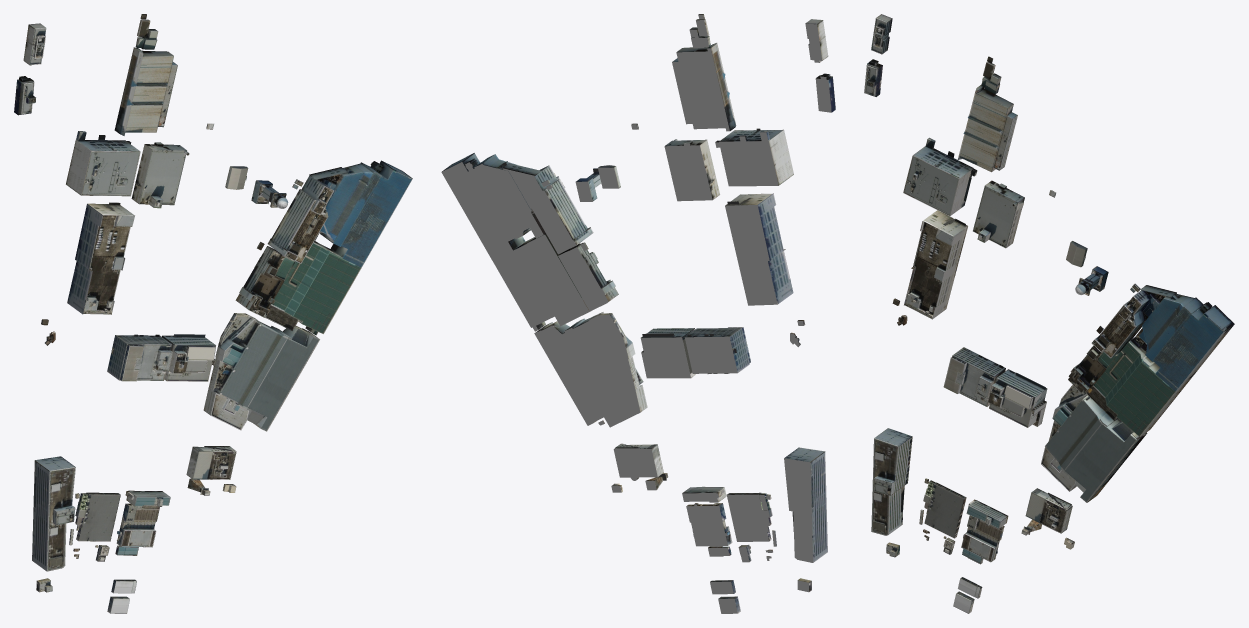
The model's file is 53392660_bldg_6677.obj.
The picture shows the model from 3 angles, left to right: view 1: azimuth 30°, elevation 25°; view 2: azimuth 150°, elevation 25°; view 3: azimuth 330°, elevation 25°; orthographic projection. The views are drawn at different scales.
Size of the model in its own units: 442 by 665 by 48.66.
44 materials, 44 textured.
